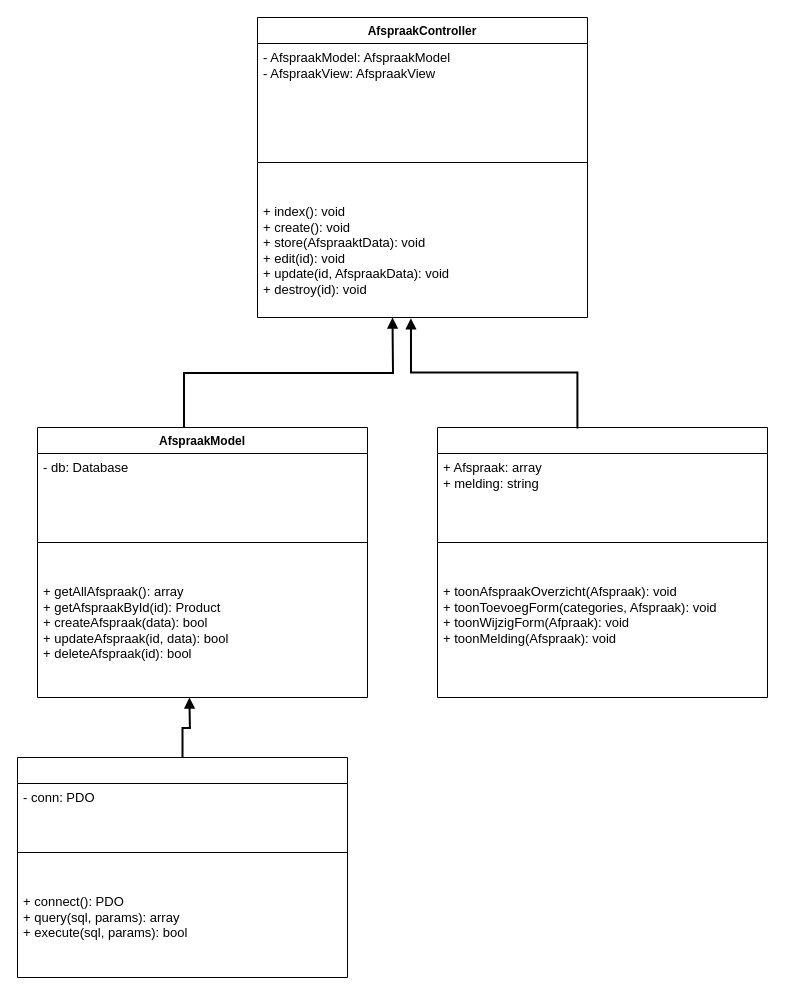
Image size: 785x998. Some labels were removed from this diagram. The box of each missing label's shape, as (x1, y1, x2, y2) in pixels:
AfspraakView: (436, 426, 768, 698)
Database: (16, 756, 348, 978)
